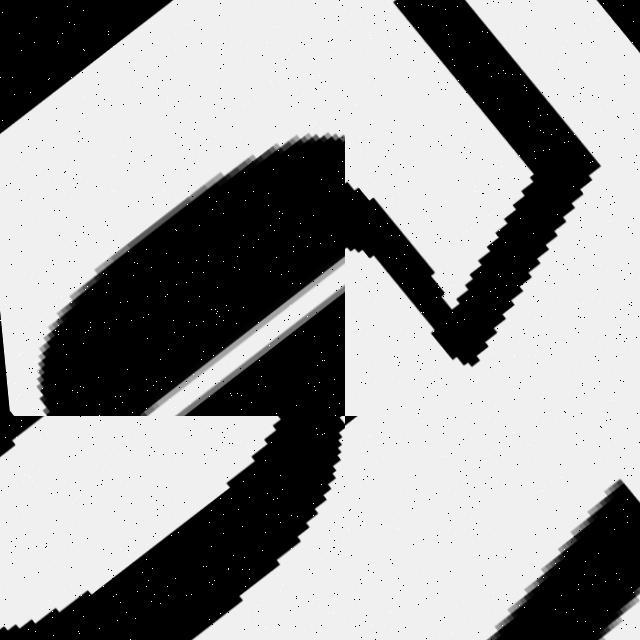0: (0, 416, 345, 640)
5: (345, 0, 640, 416)
B: (26, 136, 345, 416)
J: (345, 416, 640, 640)
